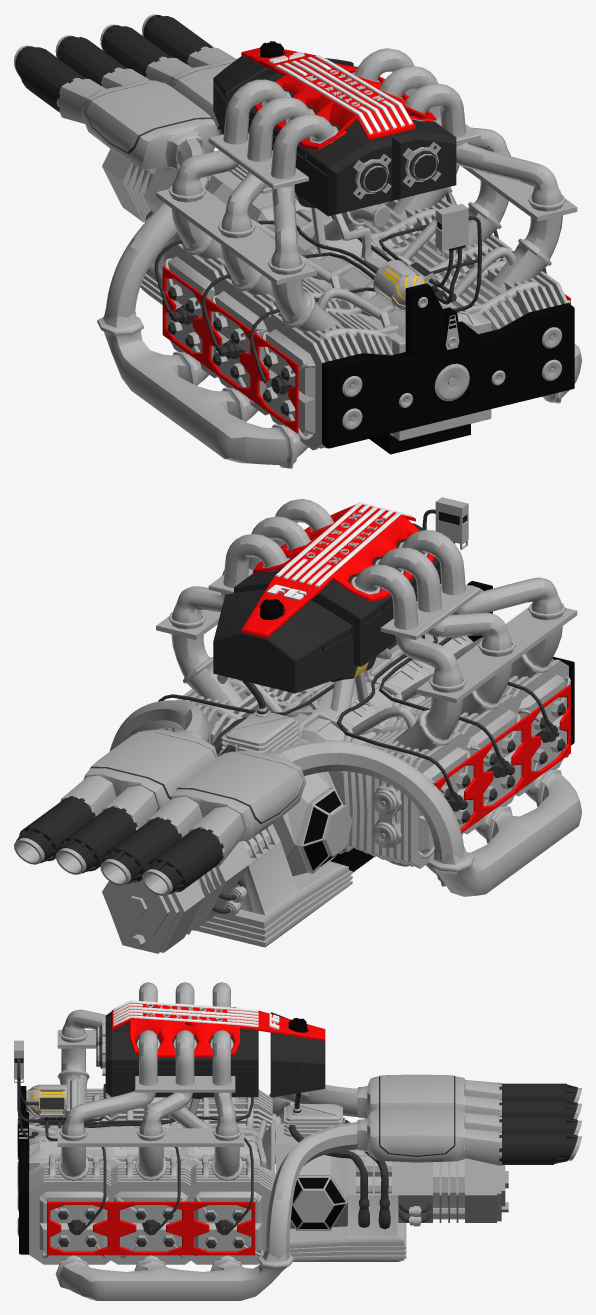
The model's file is car engine parts.fbx.
3 views of the same model, one above another, from view 1: azimuth 30°, elevation 25°; view 2: azimuth 150°, elevation 25°; view 3: azimuth 270°, elevation 25° (orthographic). The views are drawn at different scales.
Visible parts, largest first — view 1: F6_Boxer_Engine_obj_cleaner_materialmerger_gles; view 2: F6_Boxer_Engine_obj_cleaner_materialmerger_gles; view 3: F6_Boxer_Engine_obj_cleaner_materialmerger_gles.
Part boxes in pixels (x1=…): F6_Boxer_Engine_obj_cleaner_materialmerger_gles: x1=14, y1=14, x2=581, y2=468; F6_Boxer_Engine_obj_cleaner_materialmerger_gles: x1=14, y1=497, x2=581, y2=953; F6_Boxer_Engine_obj_cleaner_materialmerger_gles: x1=14, y1=982, x2=581, y2=1300.
Bounding box in the file's own units: 16004 × 12640 × 27476.
